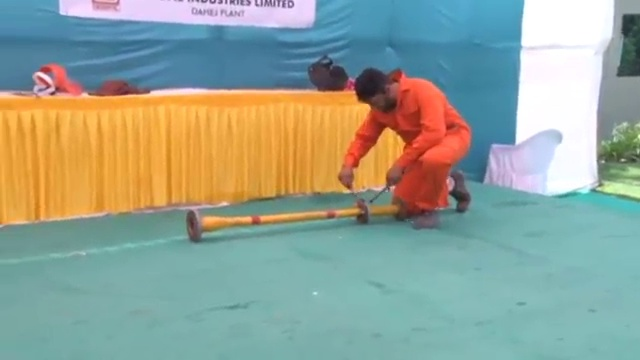helmet_off: (354, 67, 400, 112)
person: (343, 60, 474, 226)
